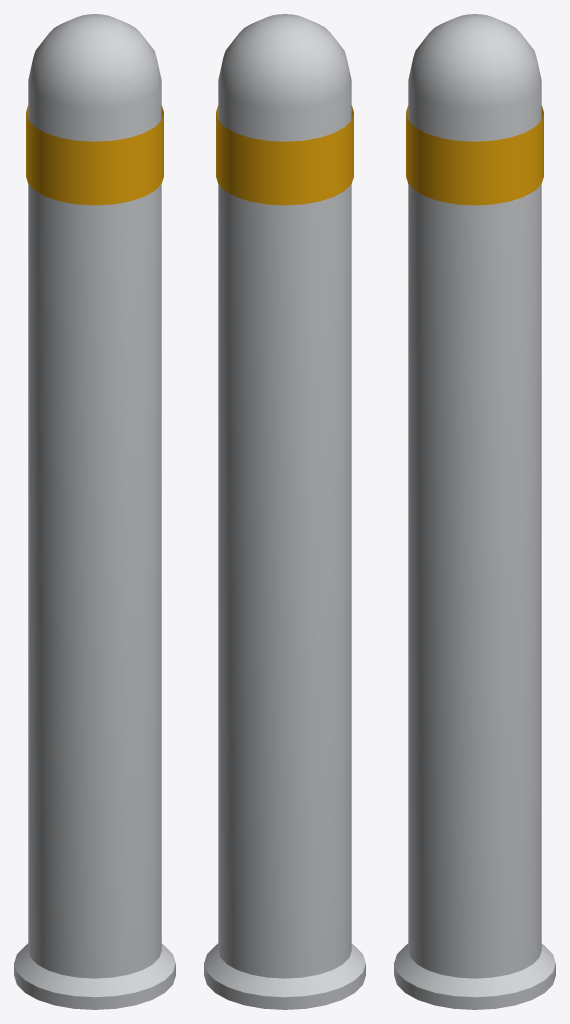
The model's file is gteki_street_bollard_fixed_d114_h900.glb.
The picture shows the model from 3 angles, left to right: view 1: azimuth 30°, elevation 25°; view 2: azimuth 150°, elevation 25°; view 3: azimuth 270°, elevation 25°; orthographic projection.
Visible parts, largest first — view 1: VIS_body, VIS_band; view 2: VIS_body, VIS_band; view 3: VIS_body, VIS_band.
Part boxes in pixels (x1=…): VIS_body: x1=14, y1=14, x2=175, y2=1009; VIS_band: x1=26, y1=105, x2=163, y2=205; VIS_body: x1=204, y1=14, x2=365, y2=1009; VIS_band: x1=216, y1=105, x2=353, y2=205; VIS_body: x1=394, y1=14, x2=555, y2=1009; VIS_band: x1=406, y1=105, x2=543, y2=205.
Size of what is drawn, in the model's own units: 0.138 by 0.9 by 0.138.
